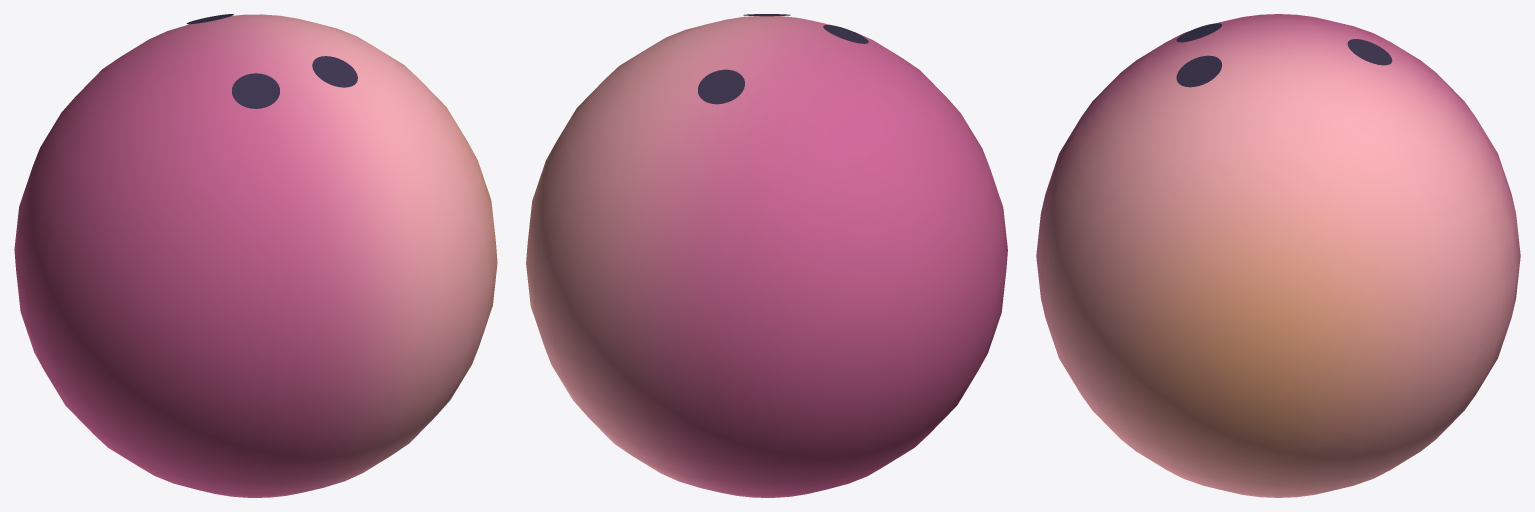
File: ball_pink.gltf
The picture shows the model from 3 angles, left to right: view 1: azimuth 30°, elevation 25°; view 2: azimuth 150°, elevation 25°; view 3: azimuth 270°, elevation 25°; orthographic projection.
Visible parts, largest first — view 1: bowlingBall.004; view 2: bowlingBall.004; view 3: bowlingBall.004.
Part boxes in pixels (box(x1,y1,x2,y2)): bowlingBall.004: box(14, 14, 497, 497); bowlingBall.004: box(526, 14, 1007, 497); bowlingBall.004: box(1036, 14, 1520, 497).
Bounding box in the file's own units: 0.25 × 0.25 × 0.25.
1 material, 1 textured.
